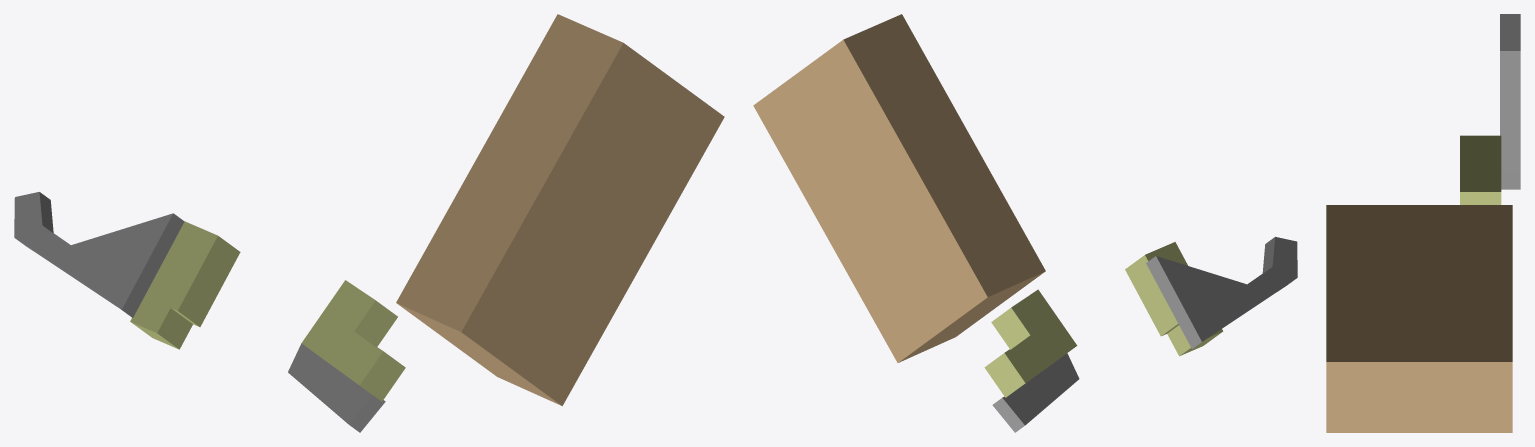
3 views of the same model, side by side, from view 1: azimuth 30°, elevation 25°; view 2: azimuth 150°, elevation 25°; view 3: azimuth 270°, elevation 25° (orthographic). The views are drawn at different scales.
Visible parts, largest first — view 1: 0_3_0_1_2_1_2_1; view 2: 0_3_0_1_2_1_2_1; view 3: 0_3_0_1_2_1_2_1.
Boxes of the visible parts, x1,y1,x2,y2 form: 0_3_0_1_2_1_2_1: (14,14,724,432); 0_3_0_1_2_1_2_1: (753,14,1297,432); 0_3_0_1_2_1_2_1: (1326,14,1520,432).
Bounding box in the file's own units: 93.15 × 51.55 × 28.2.
